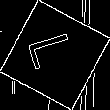L_E: (27, 33, 83, 77)
